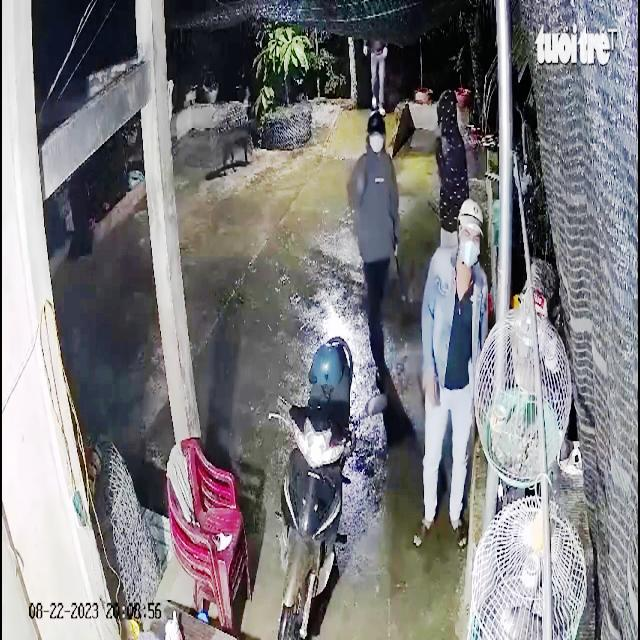Knife: (386, 238, 412, 290)
